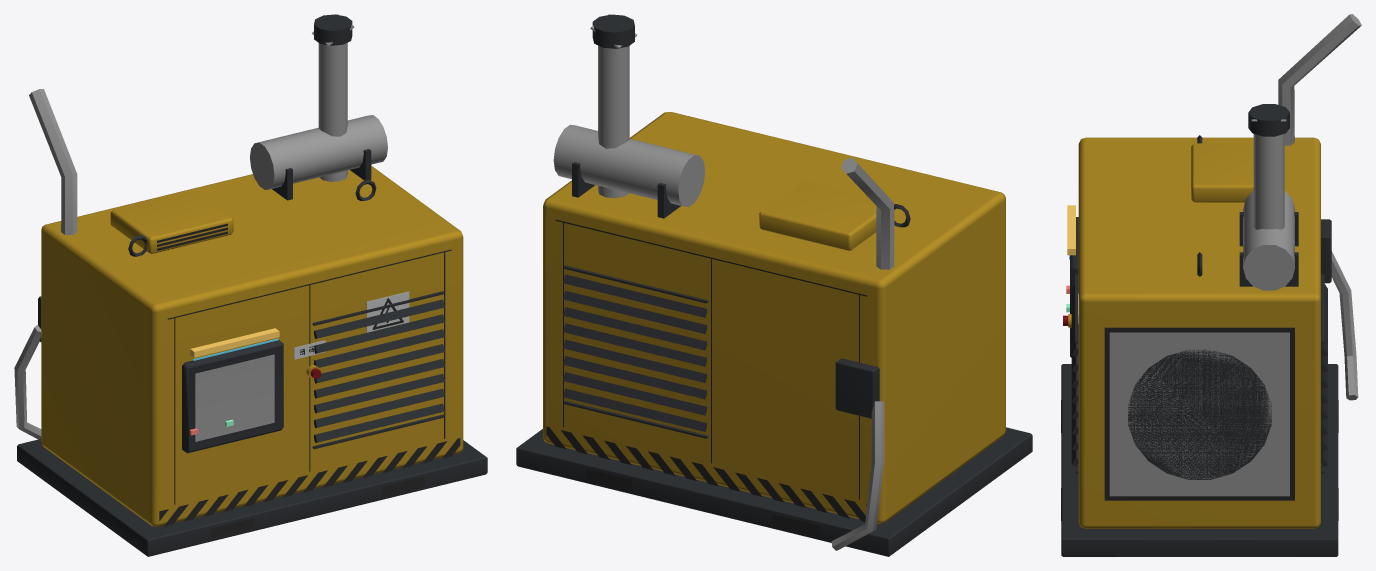
File: Generator_Industrial.fbx
The picture shows the model from 3 angles, left to right: view 1: azimuth 30°, elevation 25°; view 2: azimuth 150°, elevation 25°; view 3: azimuth 270°, elevation 25°; orthographic projection. The views are drawn at different scales.
Parts seen in each view (by area): view 1: Generator_Industrial_LOD0; view 2: Generator_Industrial_LOD0; view 3: Generator_Industrial_LOD0.
Part boxes in pixels (x1=…): Generator_Industrial_LOD0: x1=14, y1=14, x2=487, y2=556; Generator_Industrial_LOD0: x1=516, y1=14, x2=1032, y2=556; Generator_Industrial_LOD0: x1=1061, y1=14, x2=1361, y2=556.
Size of what is drawn, in the model's own units: 2.4 by 2.65 by 1.74.
